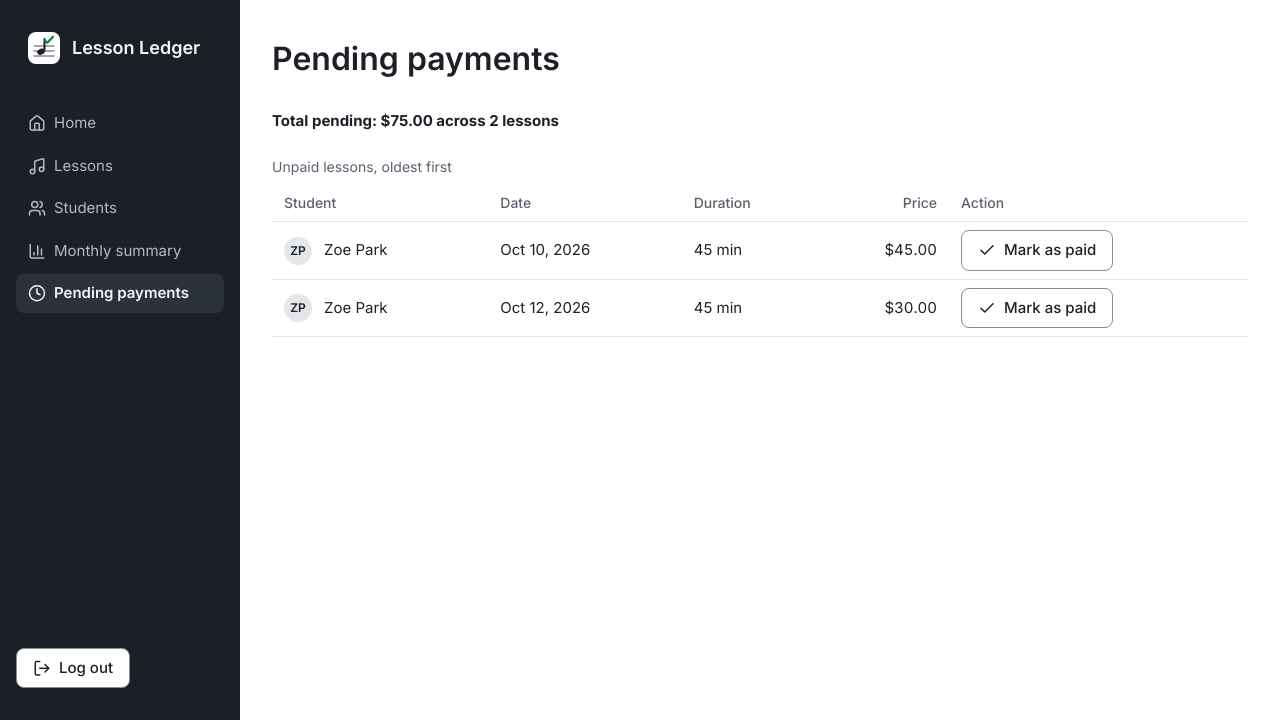
Test: AC-6 mark and undo failures › on /pending keep the row, alert and keep focus (0)
This screenshot has width=1280, height=720.
Check: the table is shown, box [272,157,1248,338]
Click the button with aria-label "Mark as paid: Zoe Park, Oct 10, 2026": [1037, 251] box [961,230,1113,271]
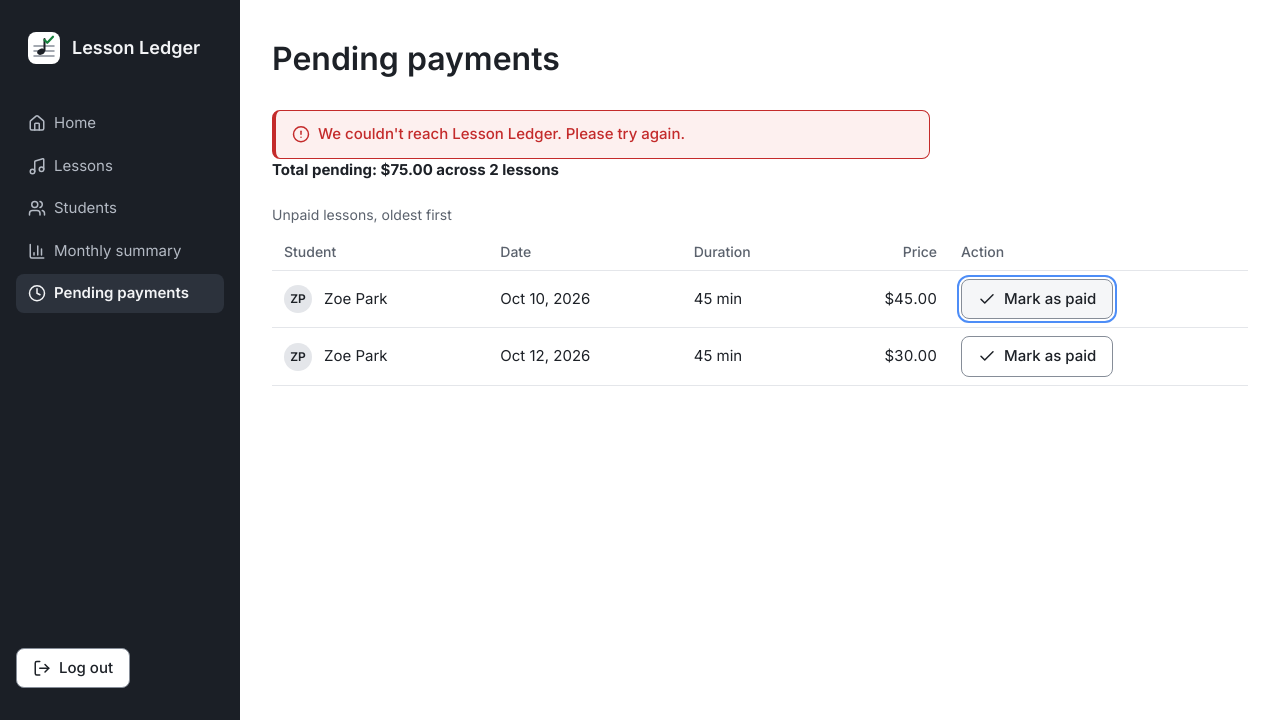
Check: the button with aria-label "Mark as paid: Zoe Park, Oct 10, 2026" is enabled, box [961,279,1113,320]
Check: the message reads "We couldn't reach Lesson Ledger. Please try again.", box [318,124,685,143]
